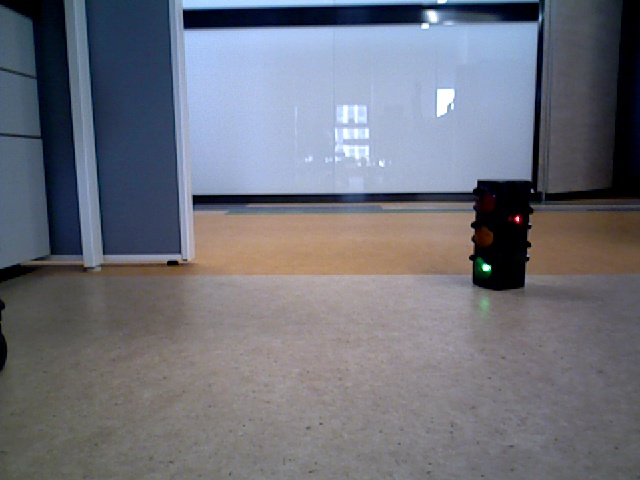green: (474, 181, 525, 283)
